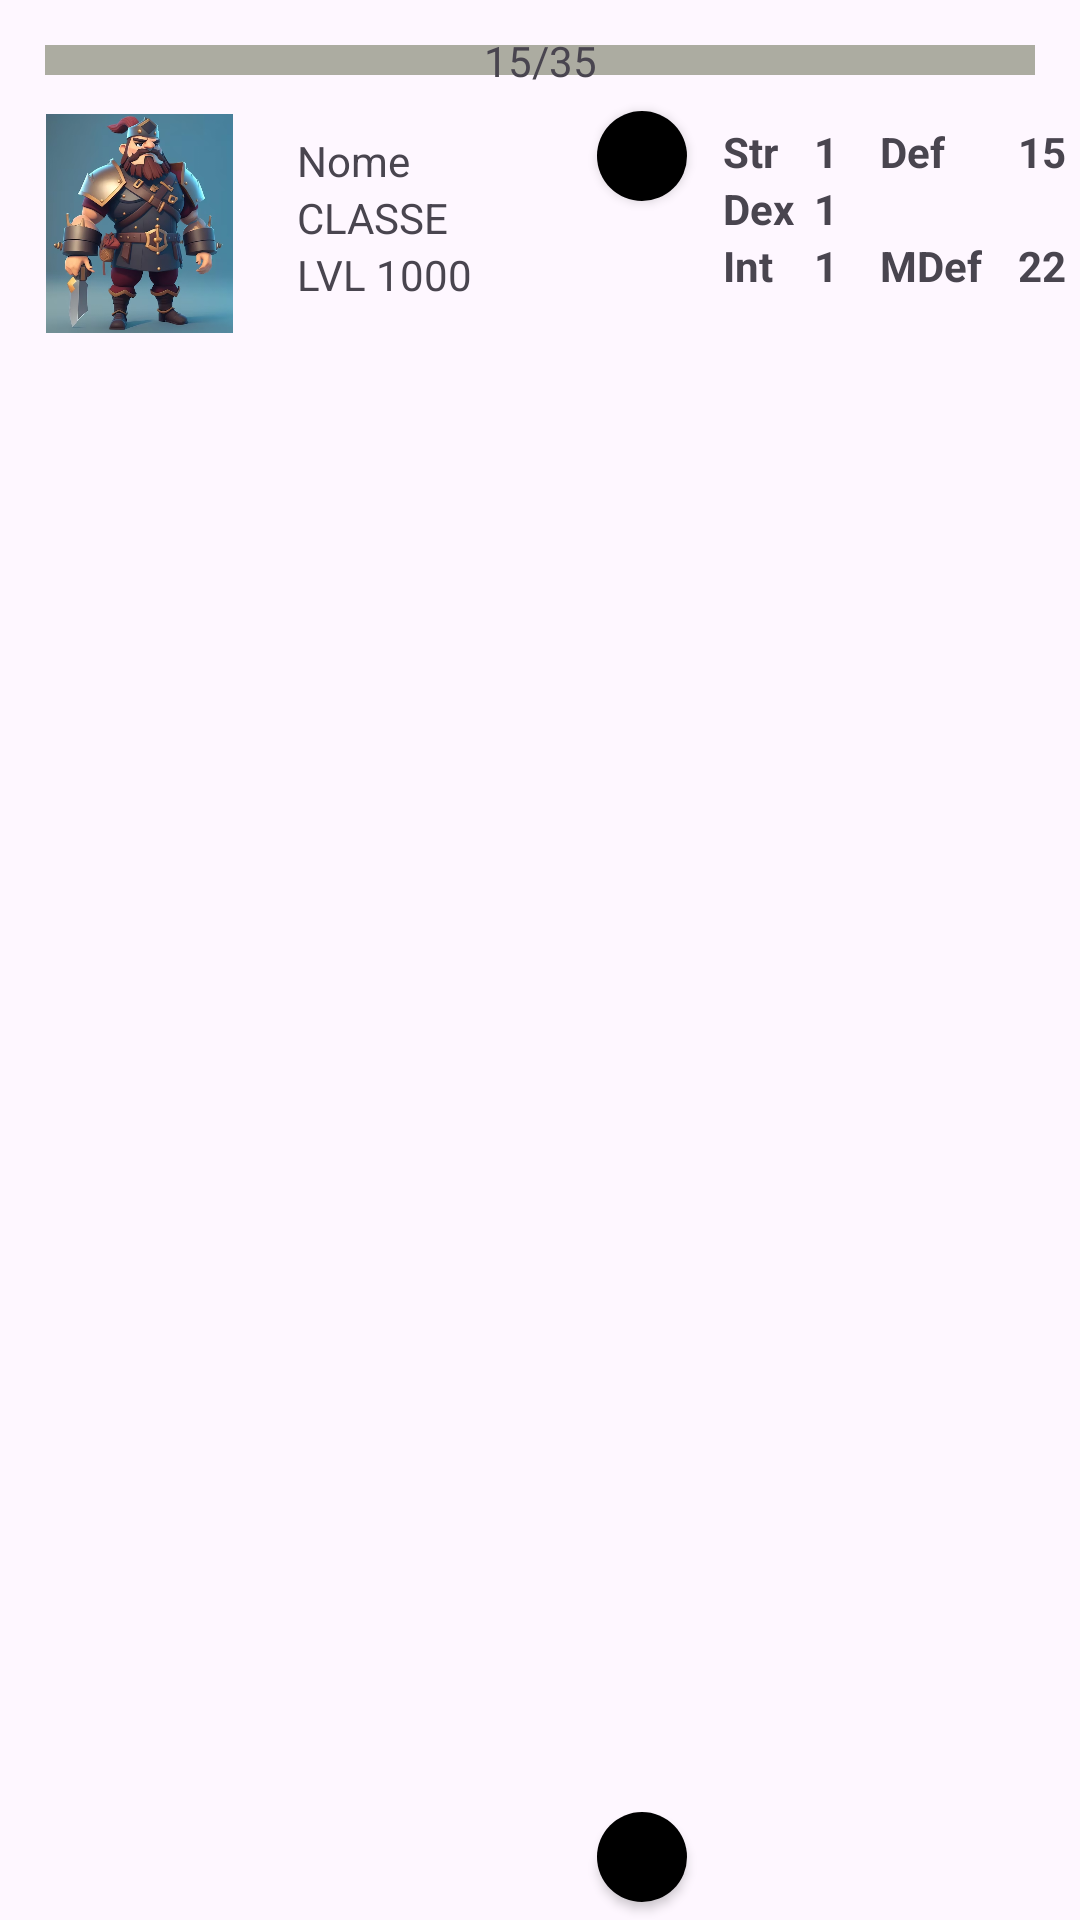

Locate icon controls on the screen. Image size 1080px×1920px, boxes as (x1, y1, x2, y2).
warrior: (46, 114, 233, 333)
